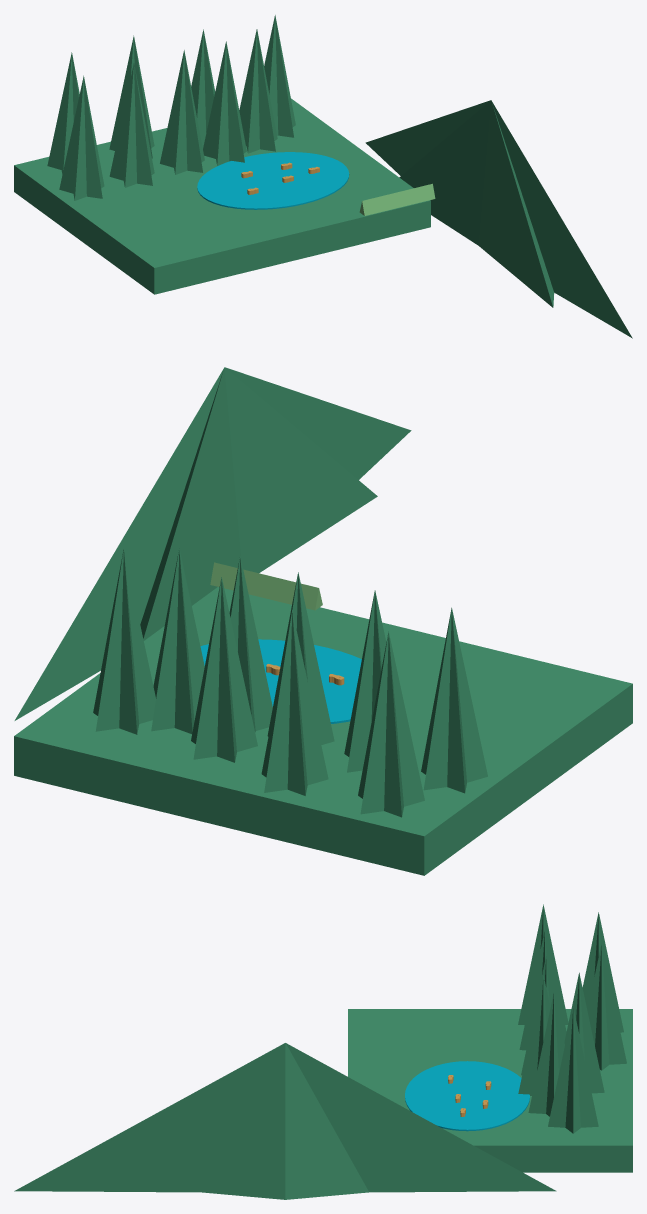
Rendered from Stunning Snicket.glb.
The picture shows the model from 3 angles, top to bottom: view 1: azimuth 30°, elevation 25°; view 2: azimuth 150°, elevation 25°; view 3: azimuth 270°, elevation 25°; orthographic projection. The views are drawn at different scales.
Visible parts, largest first — view 1: Mesh_Mesh_head_geo.001_lambert2SG.001; view 2: Mesh_Mesh_head_geo.001_lambert2SG.001; view 3: Mesh_Mesh_head_geo.001_lambert2SG.001.
Part boxes in pixels (bbox=[...]): Mesh_Mesh_head_geo.001_lambert2SG.001: bbox=[14, 15, 632, 338]; Mesh_Mesh_head_geo.001_lambert2SG.001: bbox=[14, 367, 632, 875]; Mesh_Mesh_head_geo.001_lambert2SG.001: bbox=[14, 904, 632, 1199].
Bounding box in the file's own units: 0.2602 × 0.107 × 0.415.
